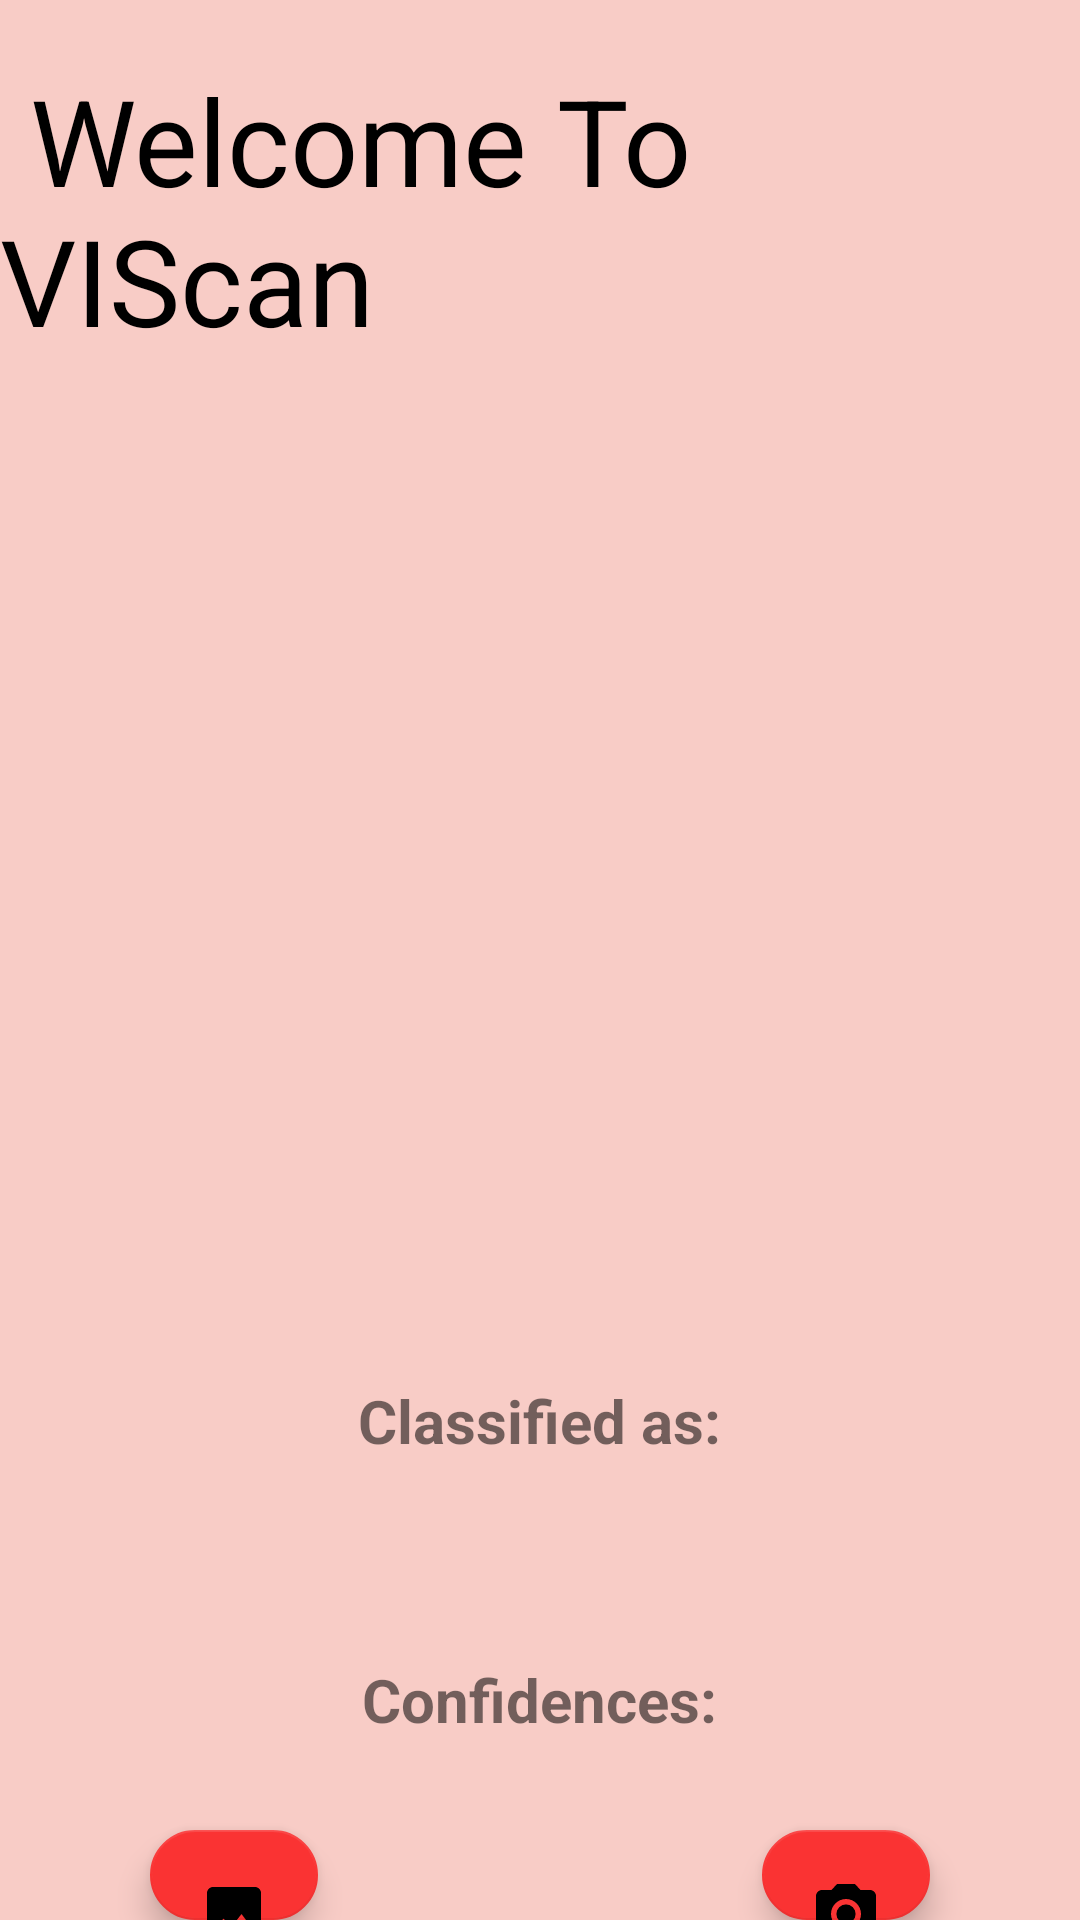

Where to tap for icons on this 1080px x 1920px app screen, as [x,y]:
photo camera: [846,1875]
